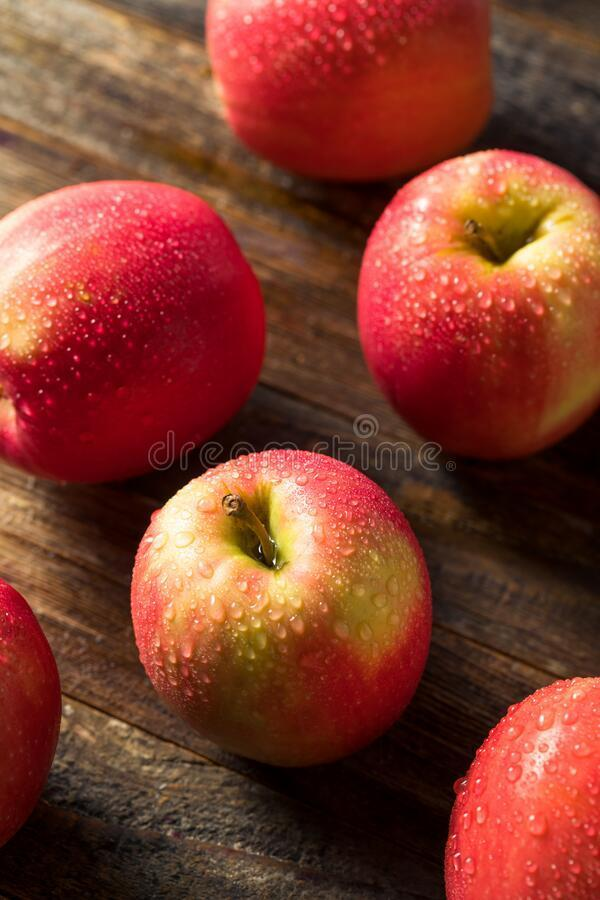apple: (128, 442, 437, 760), (1, 171, 267, 480), (355, 147, 596, 458), (208, 4, 493, 181), (442, 673, 599, 895), (1, 580, 62, 844)
